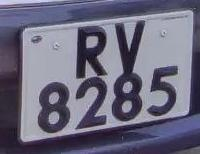2: (73, 73, 111, 130)
5: (145, 61, 184, 119)
8: (33, 71, 75, 137), (108, 69, 147, 125)
R: (68, 20, 111, 82)
V: (109, 14, 151, 78)
